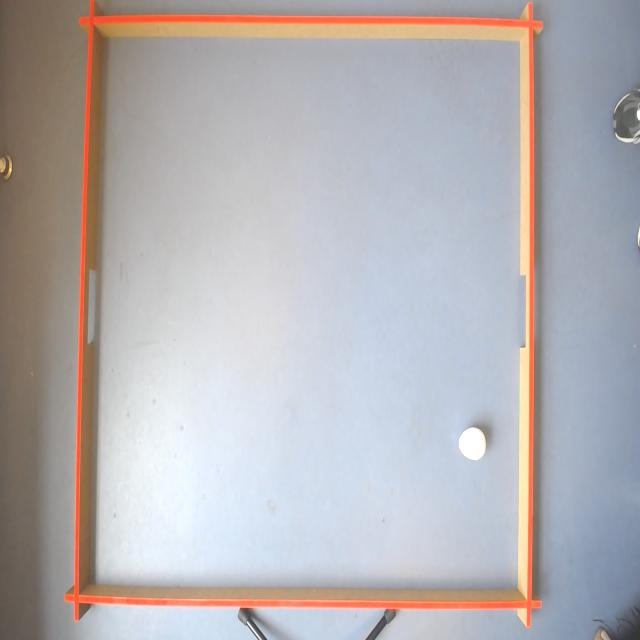corner: (515, 581, 542, 627), (518, 0, 544, 46), (64, 574, 88, 620), (80, 0, 102, 40)
